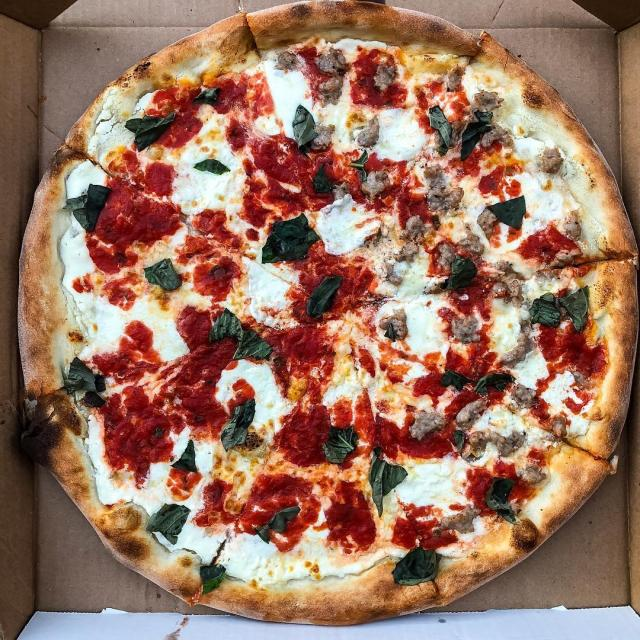basil: (208, 307, 274, 362), (261, 212, 322, 266), (122, 111, 182, 152), (64, 183, 110, 236), (368, 451, 406, 513), (65, 353, 105, 408), (482, 473, 522, 526), (219, 394, 254, 453), (145, 503, 192, 545), (483, 194, 534, 232), (391, 545, 438, 585), (256, 503, 298, 546), (308, 274, 347, 320), (322, 420, 357, 465), (560, 282, 590, 333), (525, 292, 561, 330), (142, 256, 182, 290), (427, 105, 453, 156), (464, 112, 489, 162), (292, 105, 318, 153), (472, 367, 512, 395), (446, 255, 475, 293), (169, 437, 196, 475), (436, 366, 469, 392), (200, 560, 224, 594), (313, 163, 336, 197), (351, 149, 375, 180), (192, 157, 231, 176), (196, 88, 220, 105), (384, 323, 397, 342)
pizza: (16, 2, 637, 628)
